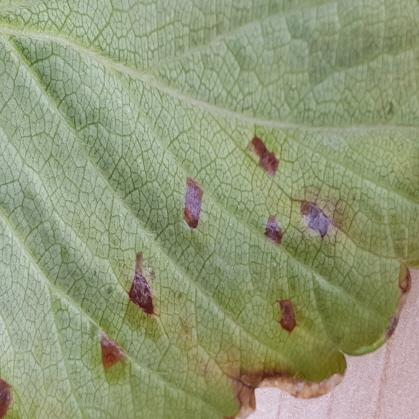Angular Leafspot: (0, 133, 413, 418)
